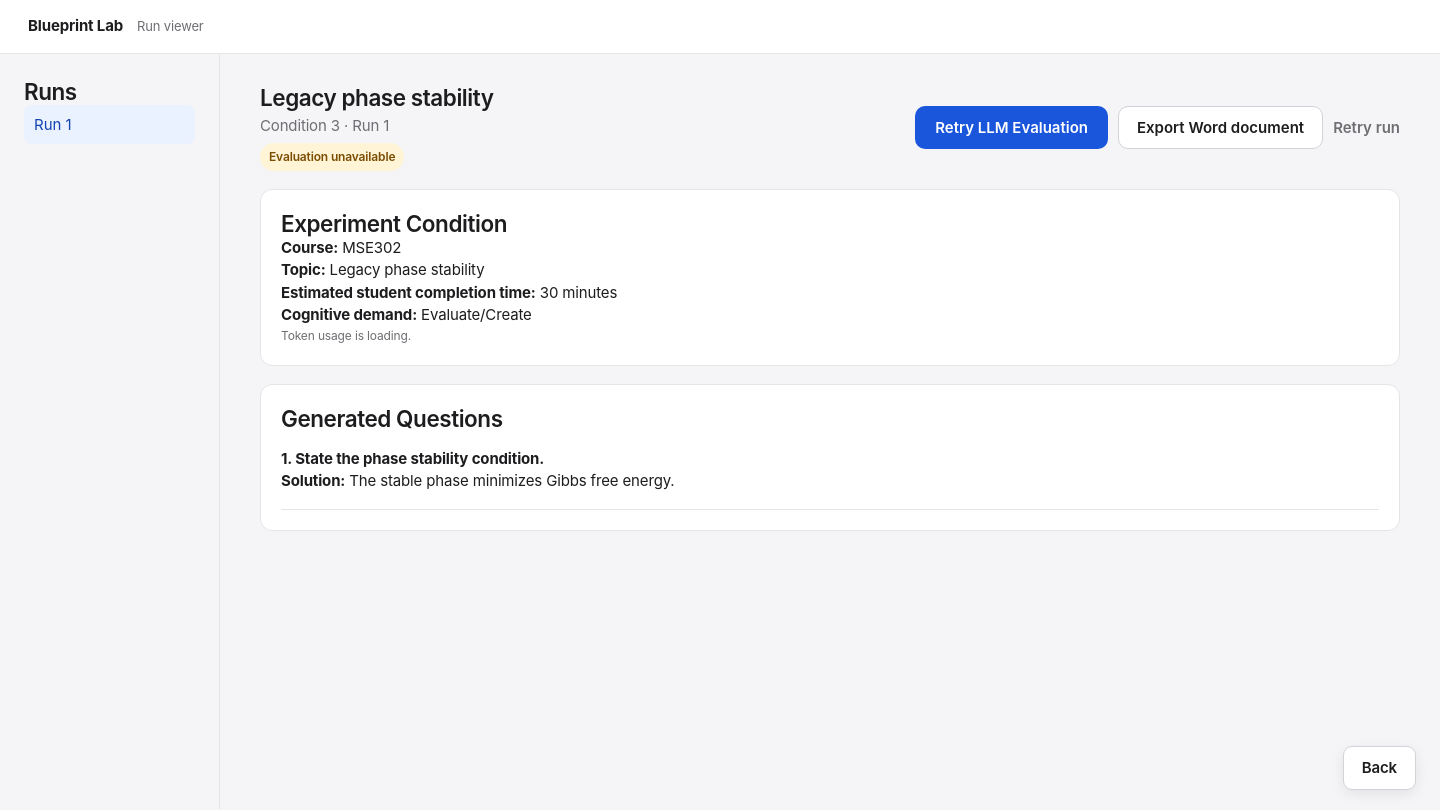
it: Viewer keeps legacy completed assessments visible with evaluation unavailable
Expected: the text "State the phase stability condition." is shown, [295, 448, 544, 468]
Expected: the message named "Evaluation status" reads "Evaluation unavailable", [269, 148, 395, 164]
Click the button "Retry LLM Evaluation": [1012, 127] box [915, 106, 1108, 149]
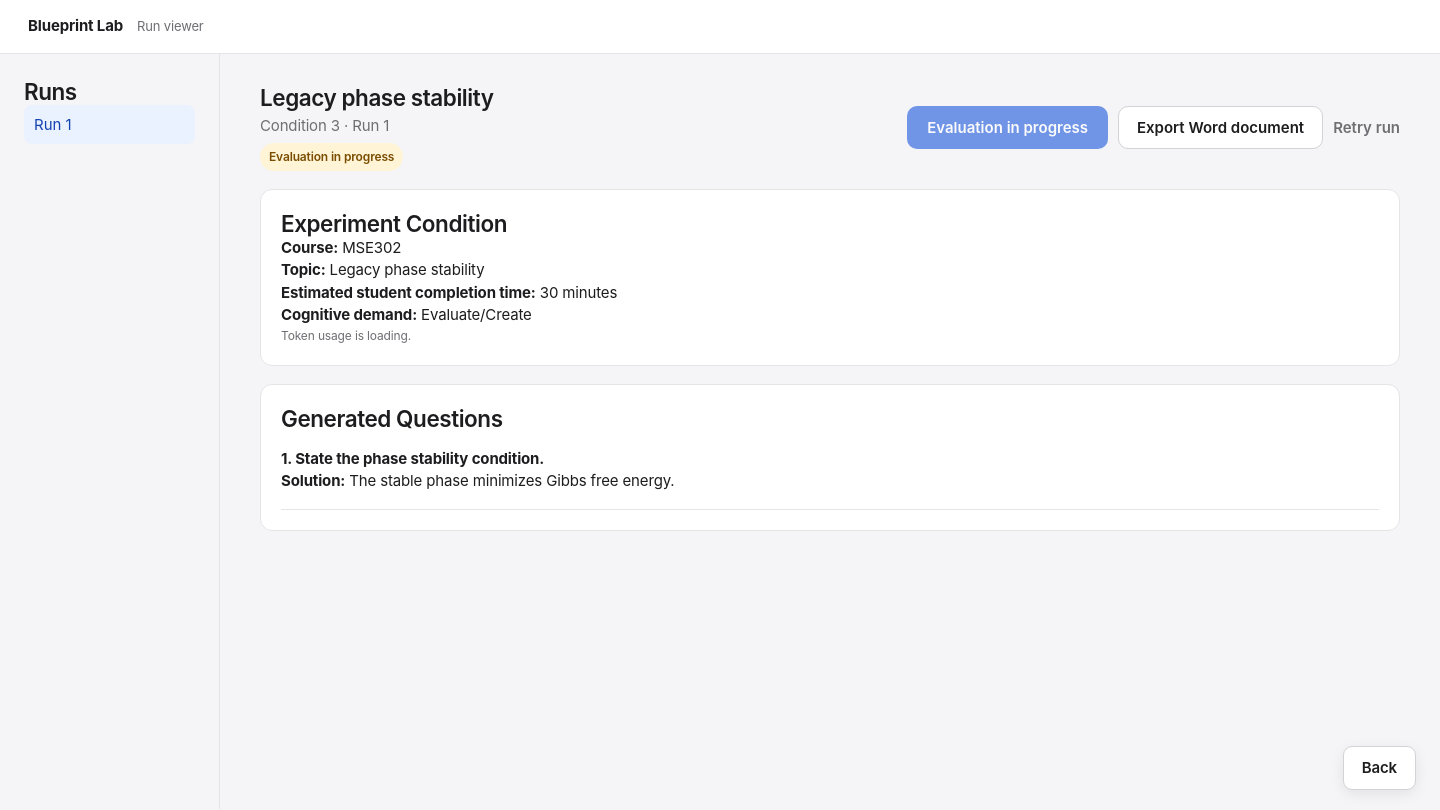
Expected: the message named "Evaluation status" reads "Evaluation in progress", [269, 148, 394, 164]
